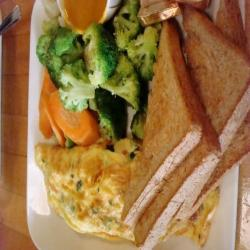bread: (122, 34, 248, 238)
omelette: (29, 141, 155, 238)
